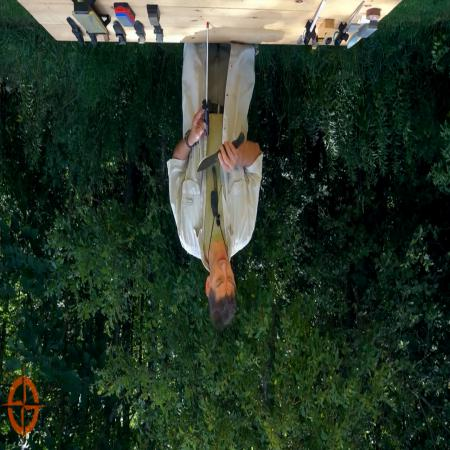long weapon: (194, 132, 248, 175)
